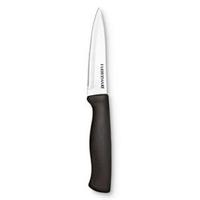knife: (82, 1, 120, 200)
